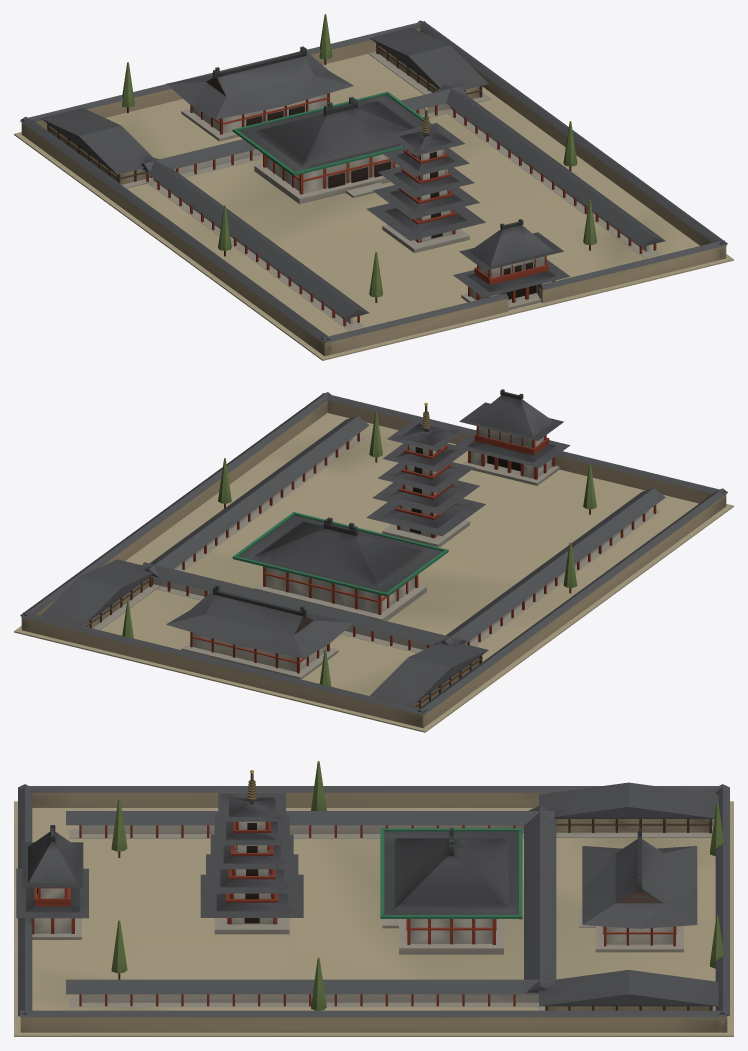
File: kaiyuan-si.glb
3 renders of one model, top to bottom at view 1: azimuth 30°, elevation 25°; view 2: azimuth 150°, elevation 25°; view 3: azimuth 270°, elevation 25°, orthographic. The views are drawn at different scales.
Visible parts, largest first — view 1: p0_cloister, p2_trees, p1_halls; view 2: p0_cloister, p2_trees, p1_halls; view 3: p0_cloister, p2_trees, p1_halls.
Boxes of the visible parts, left/top/right/bottom form: p0_cloister: left=14, top=20, right=733, bottom=360; p2_trees: left=41, top=14, right=596, bottom=302; p1_halls: left=47, top=43, right=554, bottom=310; p0_cloister: left=14, top=392, right=733, bottom=732; p2_trees: left=41, top=389, right=596, bottom=706; p1_halls: left=47, top=402, right=559, bottom=708; p0_cloister: left=14, top=784, right=733, bottom=1036; p2_trees: left=16, top=761, right=723, bottom=1010; p1_halls: left=31, top=770, right=715, bottom=1010.
Bounding box in the file's own units: 100 × 29.93 × 130.
